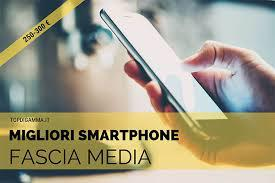Hand: (117, 52, 271, 156)
Smartphone: (101, 4, 234, 142)
